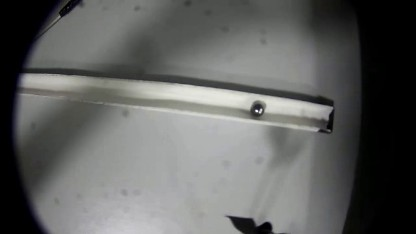gangzhu: (249, 100, 265, 118)
